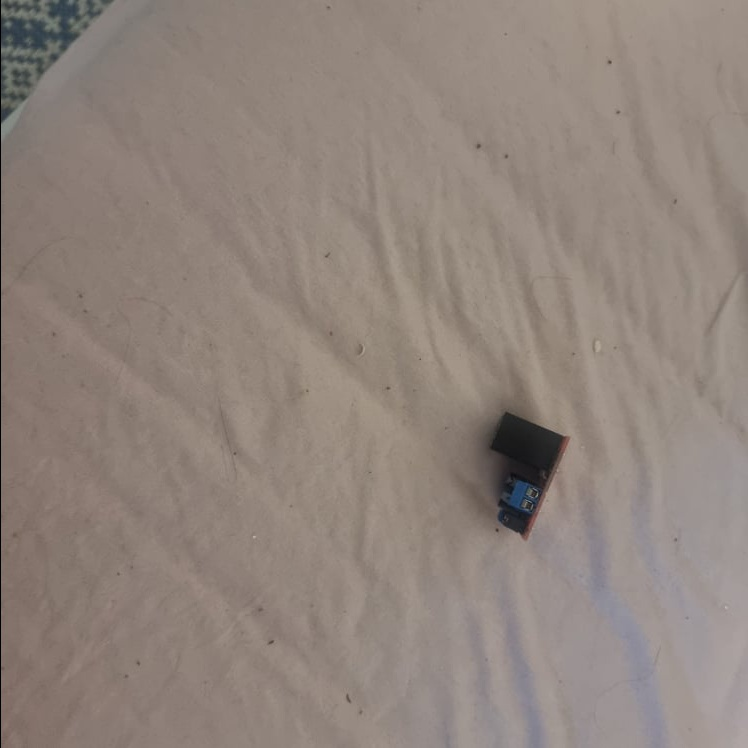MOTOR: (482, 408, 571, 546)
